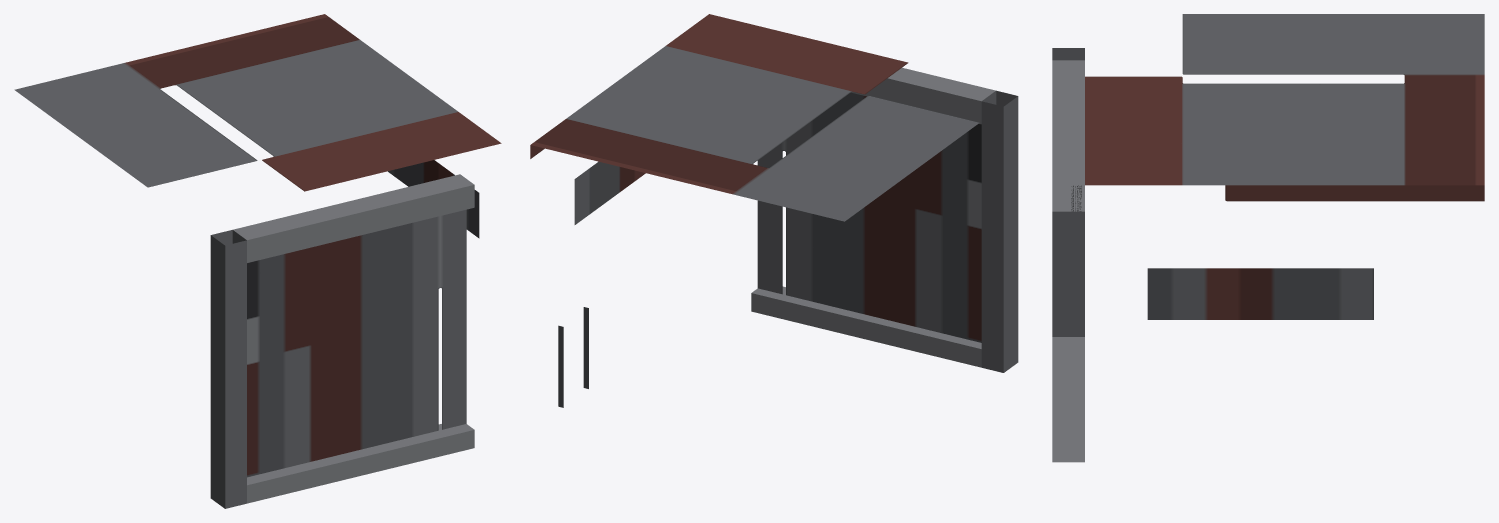
File: section-0.obj
3 renders of one model, left to right at view 1: azimuth 30°, elevation 25°; view 2: azimuth 150°, elevation 25°; view 3: azimuth 270°, elevation 25°, orthographic. The views are drawn at different scales.
Size of the model in its own units: 0.722 by 0.62 by 0.757.
